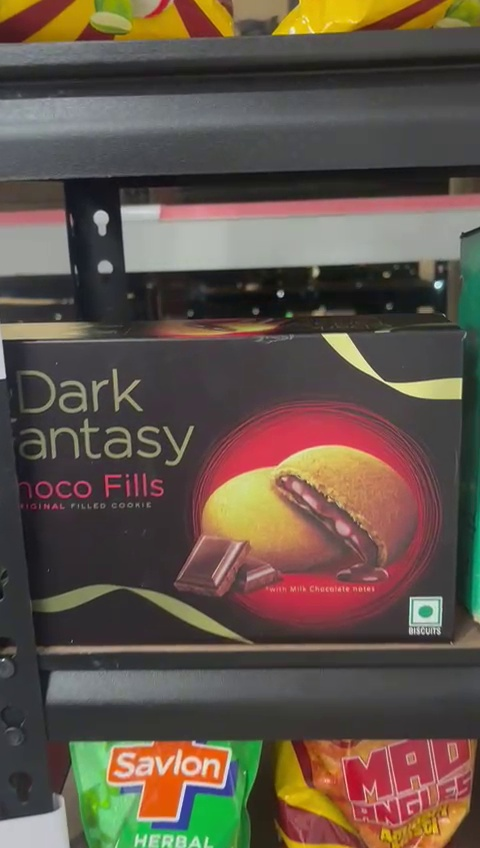Dark Fantasy: (9, 338, 461, 639)
